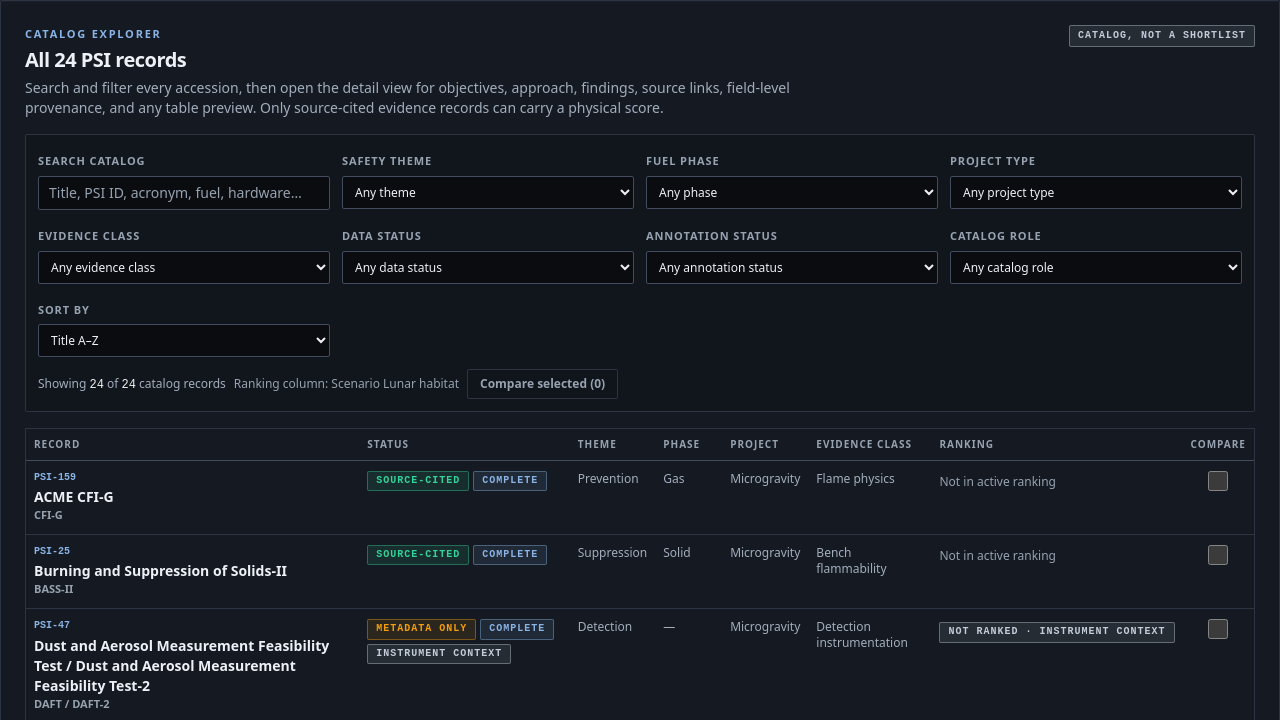
Test: CatalogExplorer — filters › project type microgravity keeps all 24; ground yields a honest empty state
Step 1. Select "Microgravity" in the dropdown labelled "Project type" → (1096, 192), box [950,176,1242,209]
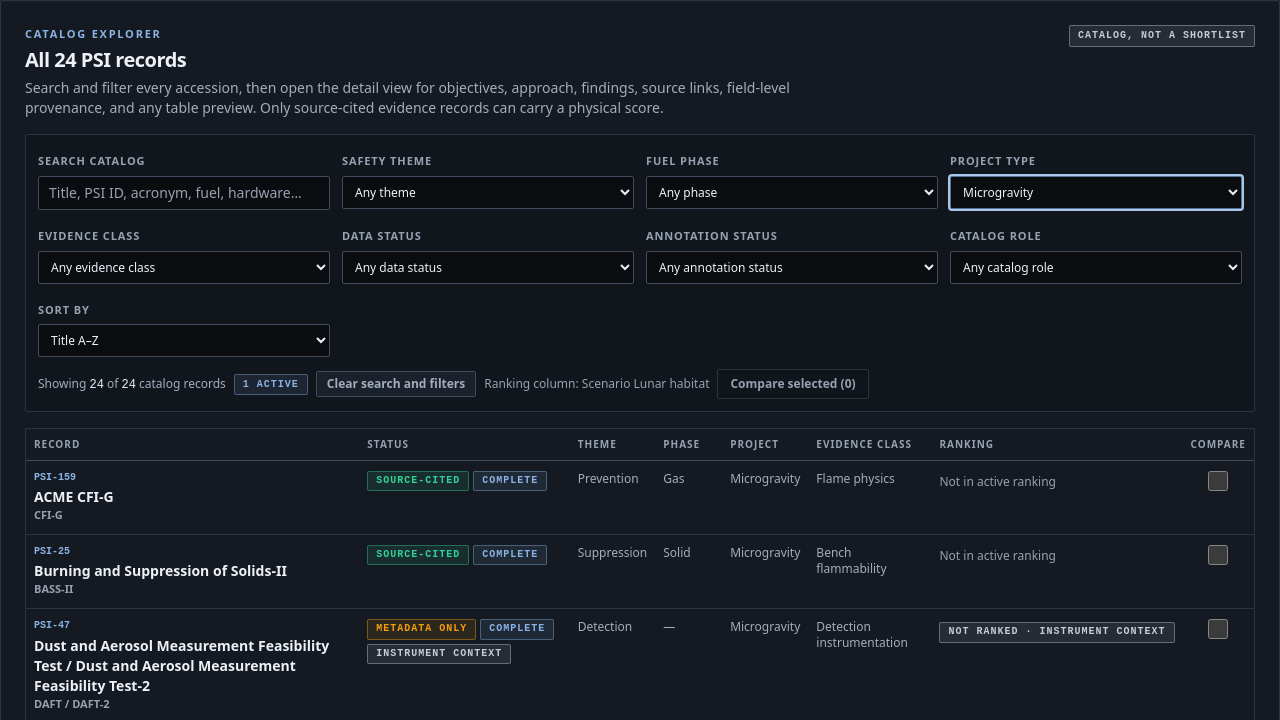
Expected: the element showing "Showing 24 of 24 catalog records" is shown, [38,376,226,393]
Step 2. Select "Ground" in the dropdown labelled "Project type" → (1096, 192), box [950,176,1242,209]
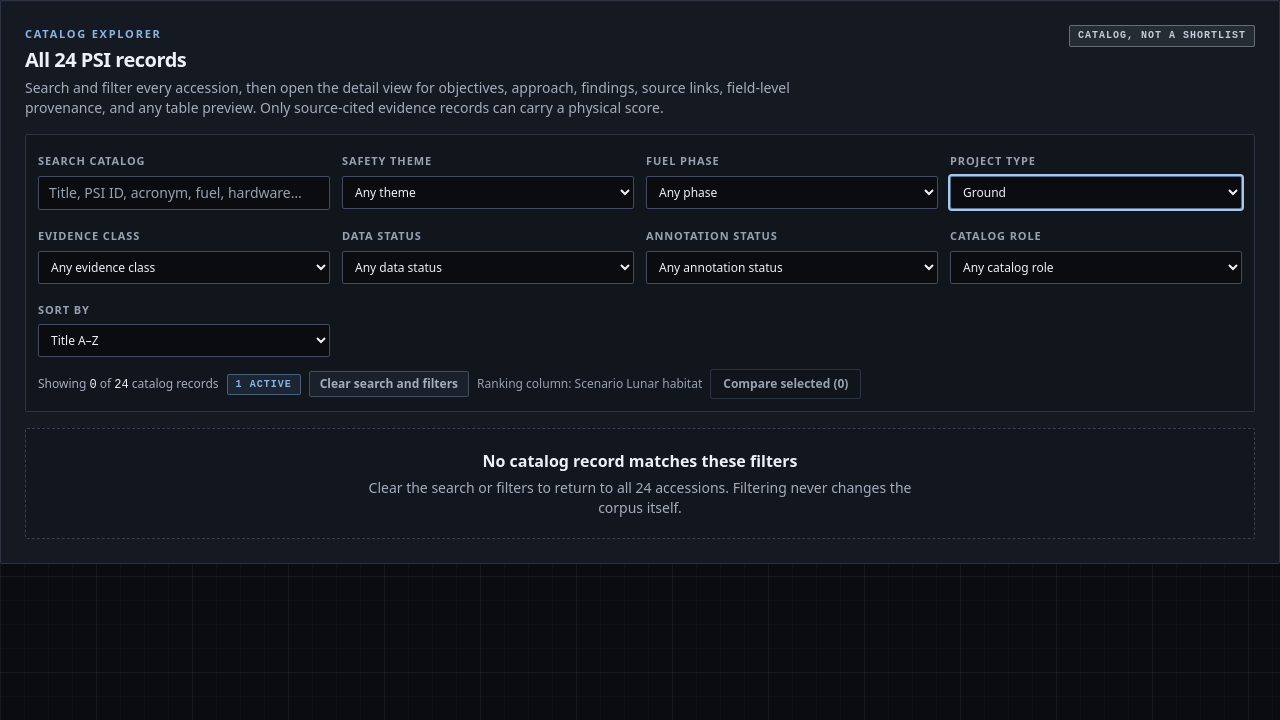
Expected: the element showing "Showing 0 of 24 catalog records" is shown, [38,376,219,393]
Expected: the text "No catalog record matches these filters" is shown, [482,450,798,472]
